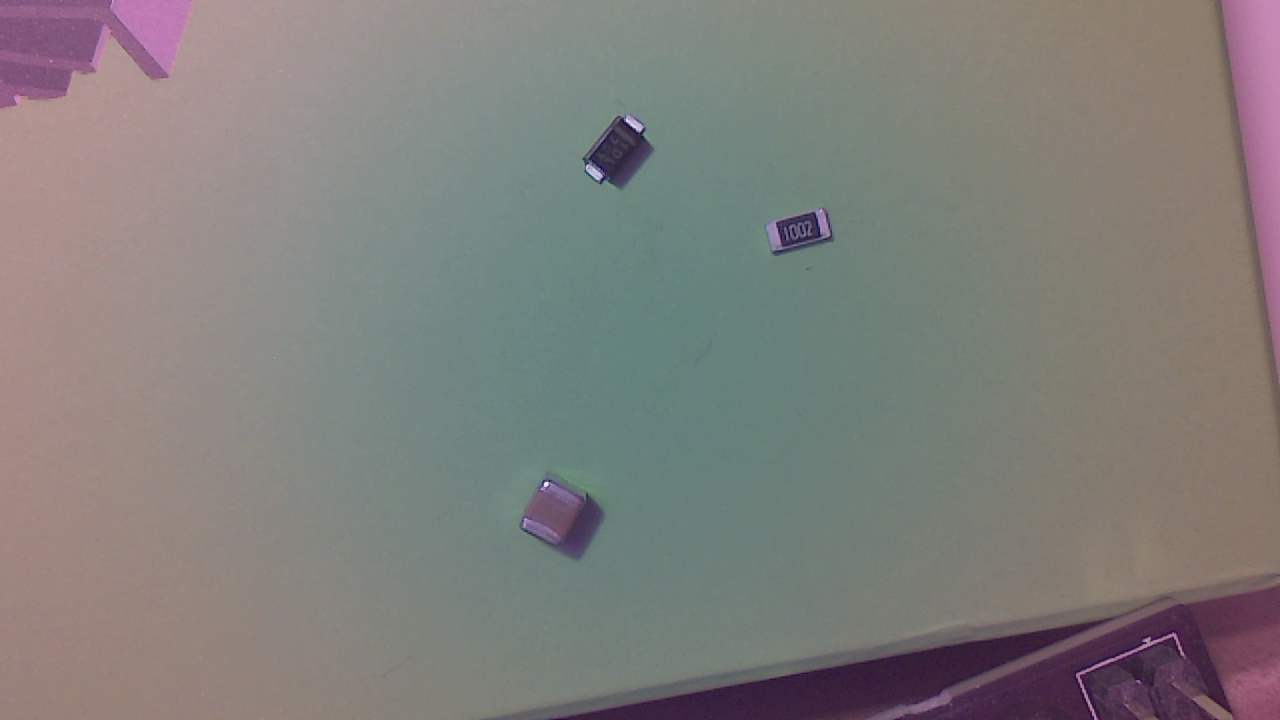Condensator: (524, 476, 598, 552)
Diode: (586, 117, 655, 192)
Resistor: (771, 211, 838, 263)
